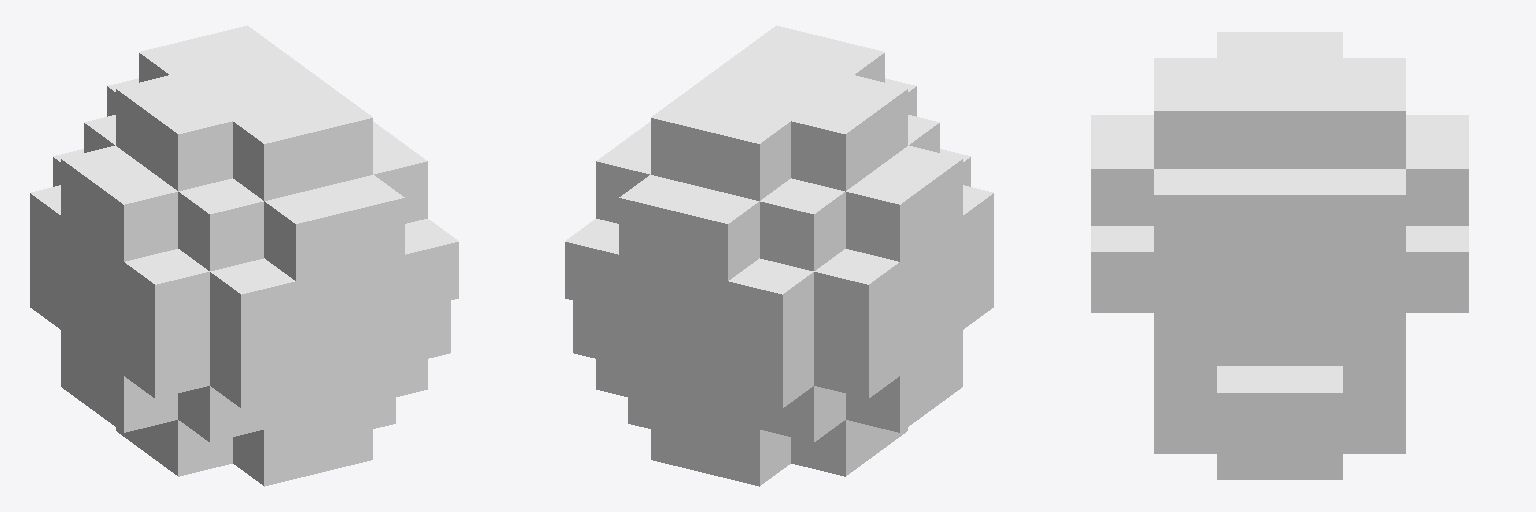
The model's file is Knight2_F1.obj.
3 renders of one model, left to right at view 1: azimuth 30°, elevation 25°; view 2: azimuth 150°, elevation 25°; view 3: azimuth 270°, elevation 25°, orthographic.
Visible parts, largest first — view 1: object 1; view 2: object 1; view 3: object 1.
Boxes of the visible parts, x1=… form: object 1: x1=30, y1=25, x2=458, y2=486; object 1: x1=565, y1=25, x2=993, y2=486; object 1: x1=1091, y1=32, x2=1468, y2=479.
Bounding box in the file's own units: 0.6 × 0.6 × 0.6.